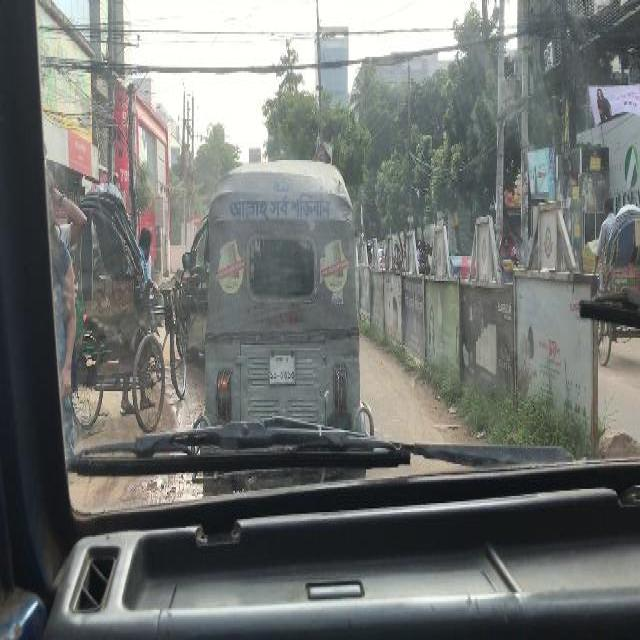minivan: (177, 215, 211, 357)
rickshaw: (71, 194, 185, 432), (594, 203, 638, 369), (497, 232, 521, 280)
three wheelers -CNG-: (205, 166, 375, 481)
